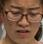without_mask: (1, 2, 43, 44)
